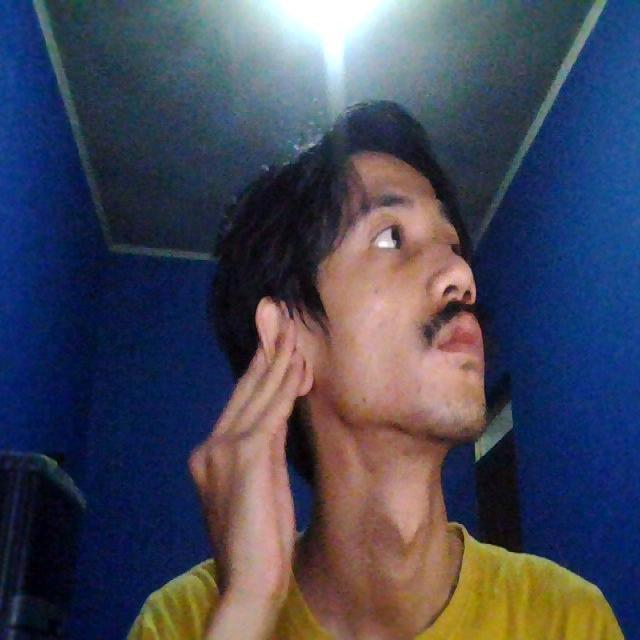melihat kekiri: (177, 157, 522, 468)
movement: (185, 330, 316, 620)
